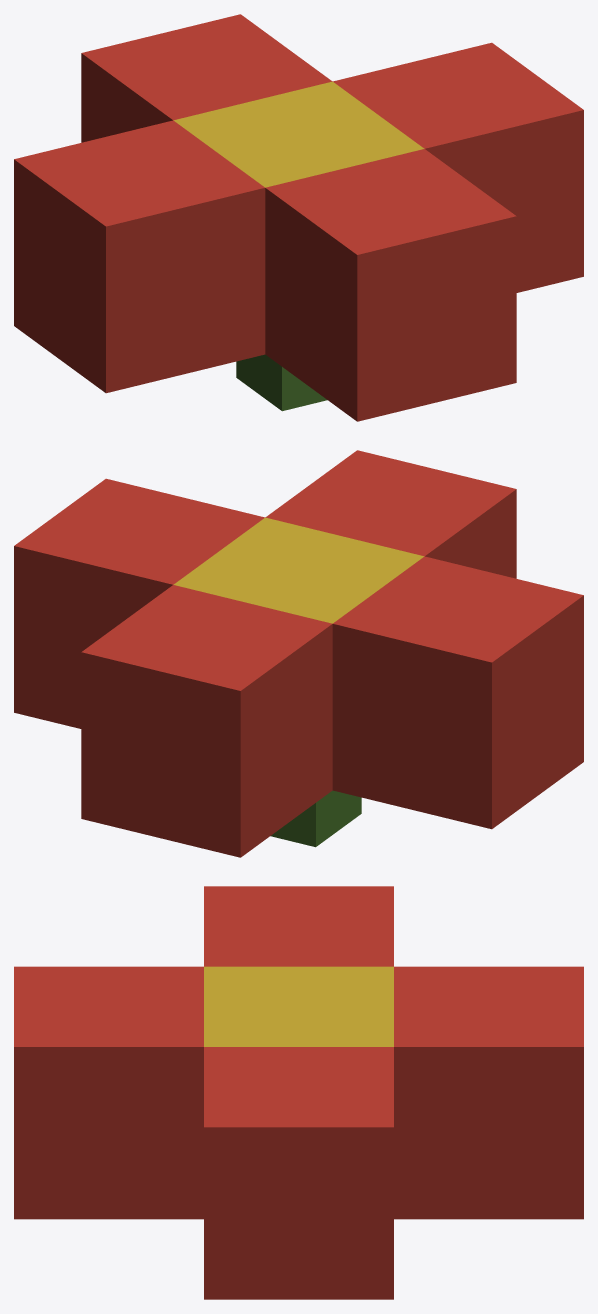
Rendered from flower_red_1.glb.
3 renders of one model, top to bottom at view 1: azimuth 30°, elevation 25°; view 2: azimuth 150°, elevation 25°; view 3: azimuth 270°, elevation 25°, orthographic. The views are drawn at different scales.
Parts seen in each view (by area): view 1: Flower_red_1; view 2: Flower_red_1; view 3: Flower_red_1.
Boxes of the visible parts, x1=… form: Flower_red_1: x1=14, y1=14, x2=583, y2=421; Flower_red_1: x1=14, y1=450, x2=583, y2=857; Flower_red_1: x1=14, y1=886, x2=583, y2=1299.
Size of the model in its own units: 0.48 by 0.24 by 0.48.
